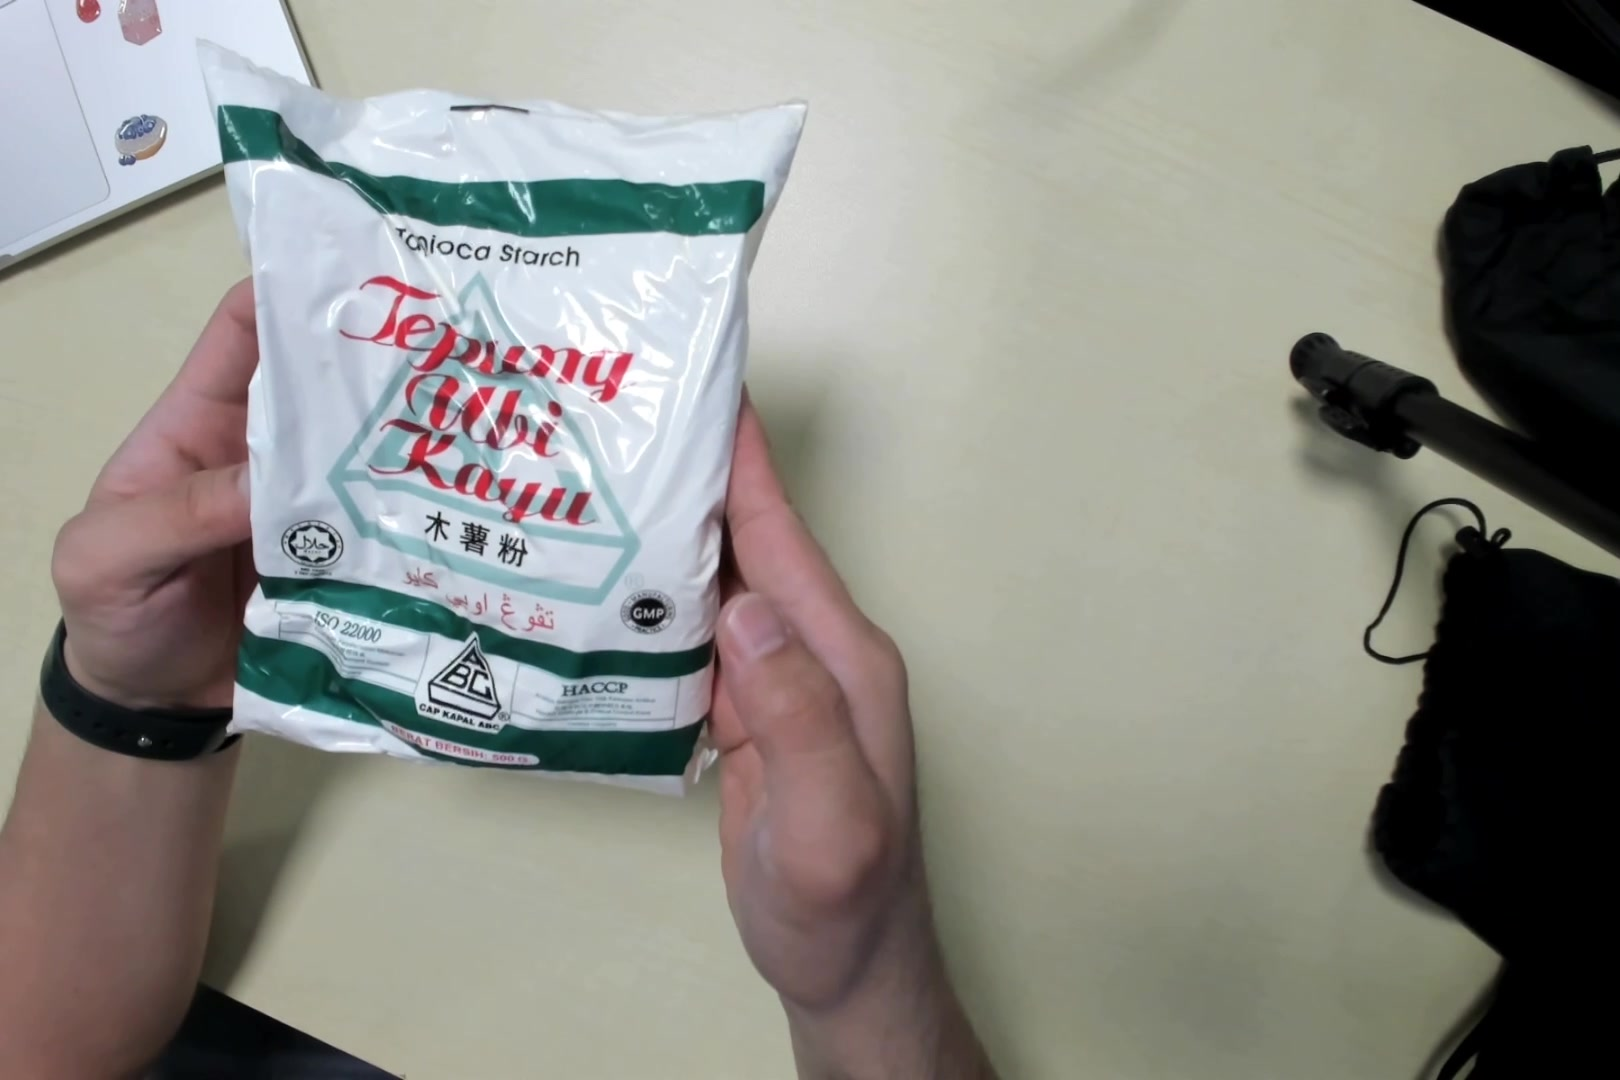Flour_500-599g_Halal_NonHealthy: (218, 70, 738, 799)
